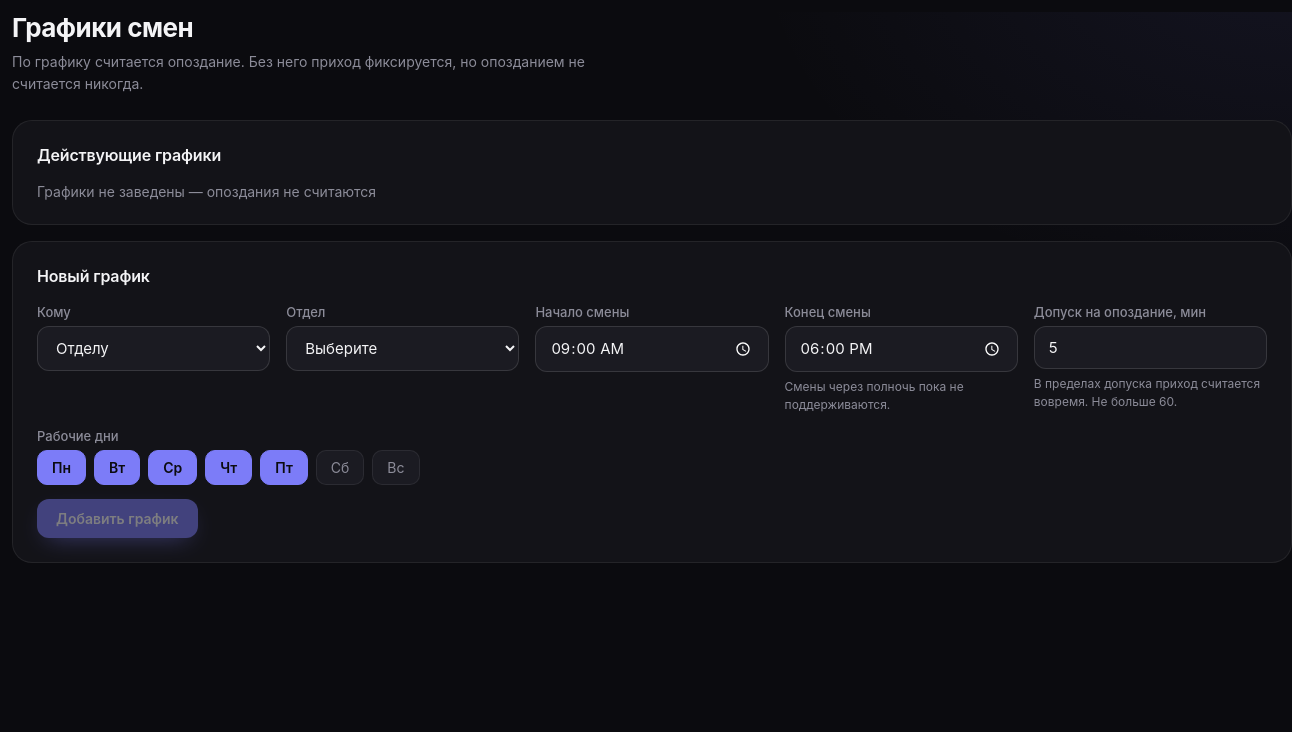
it: график: рабочие дни › график без единого дня создать нельзя
Expected: the heading "Новый график" is shown, [37,266,150,286]
Select "Продажи" in the dropdown labelled "Отдел" at (403, 348), box [286,326,519,371]
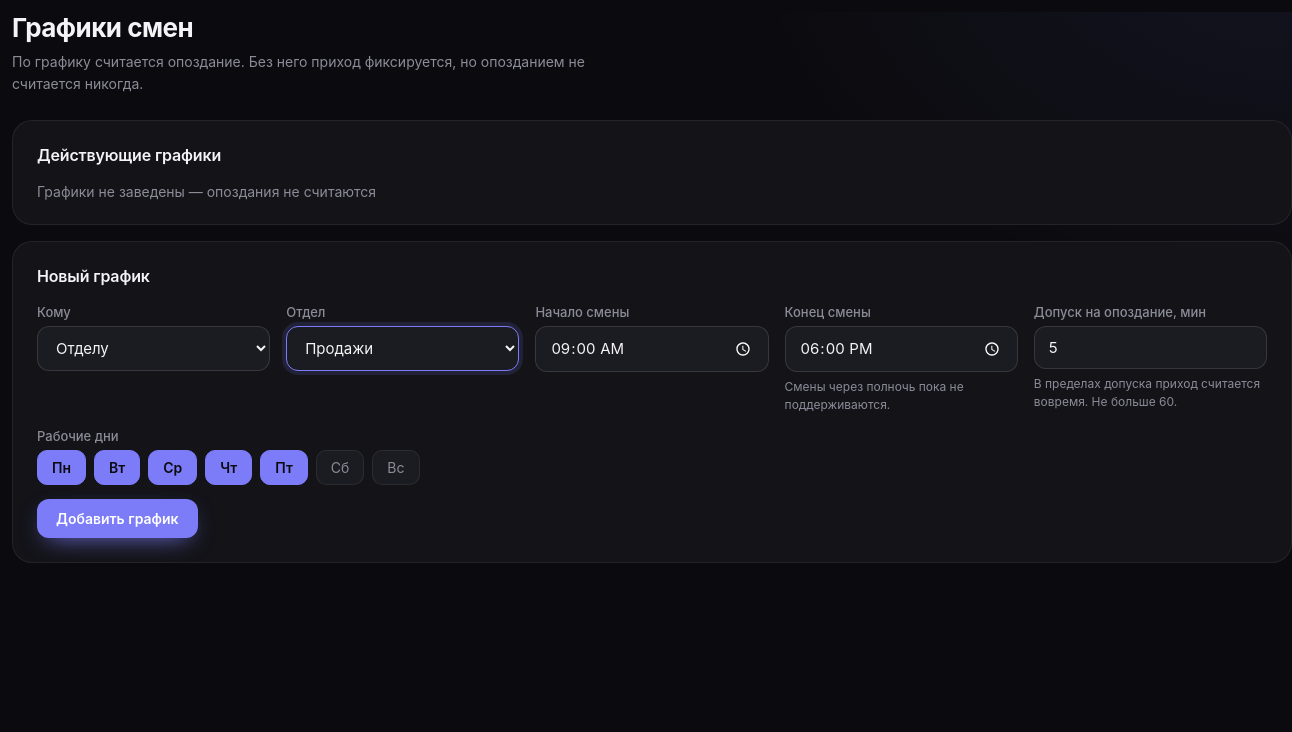
Click the button "Пн" at (62, 467), box [37,450,86,484]
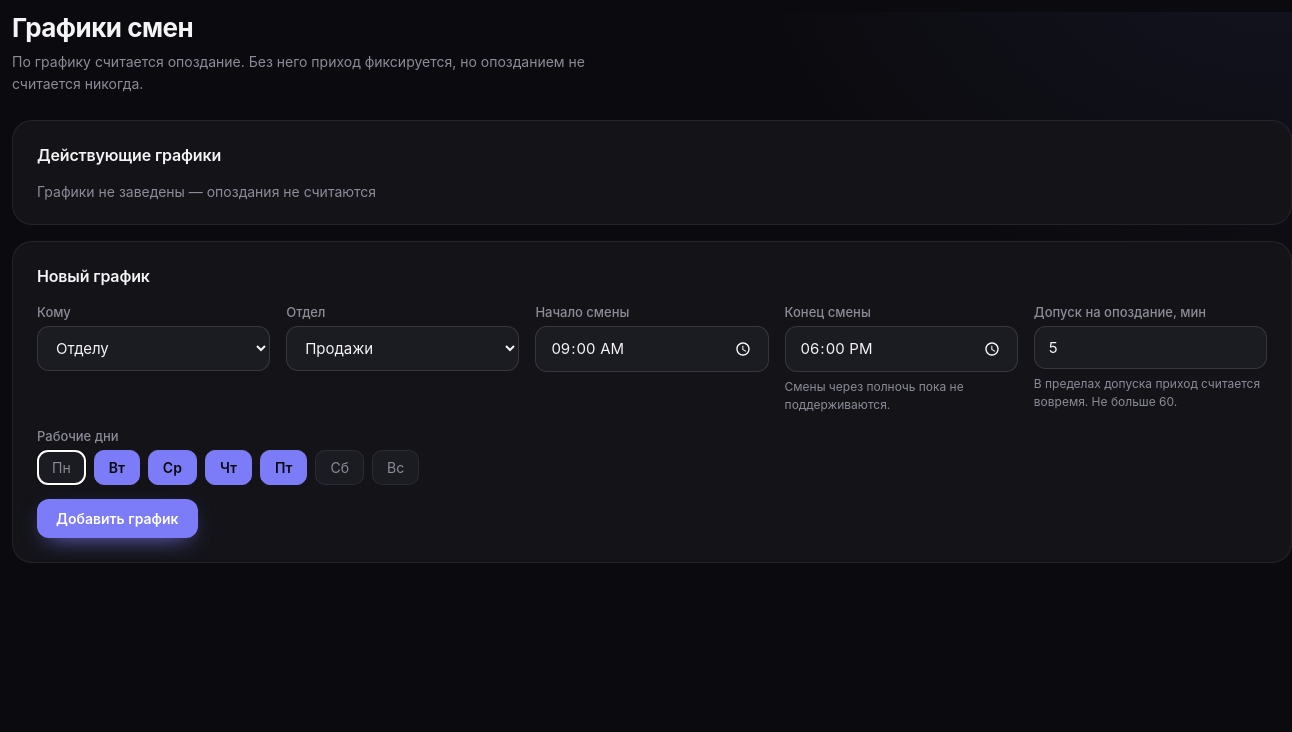
Click the button "Вт" at (117, 467), box [94,450,140,484]
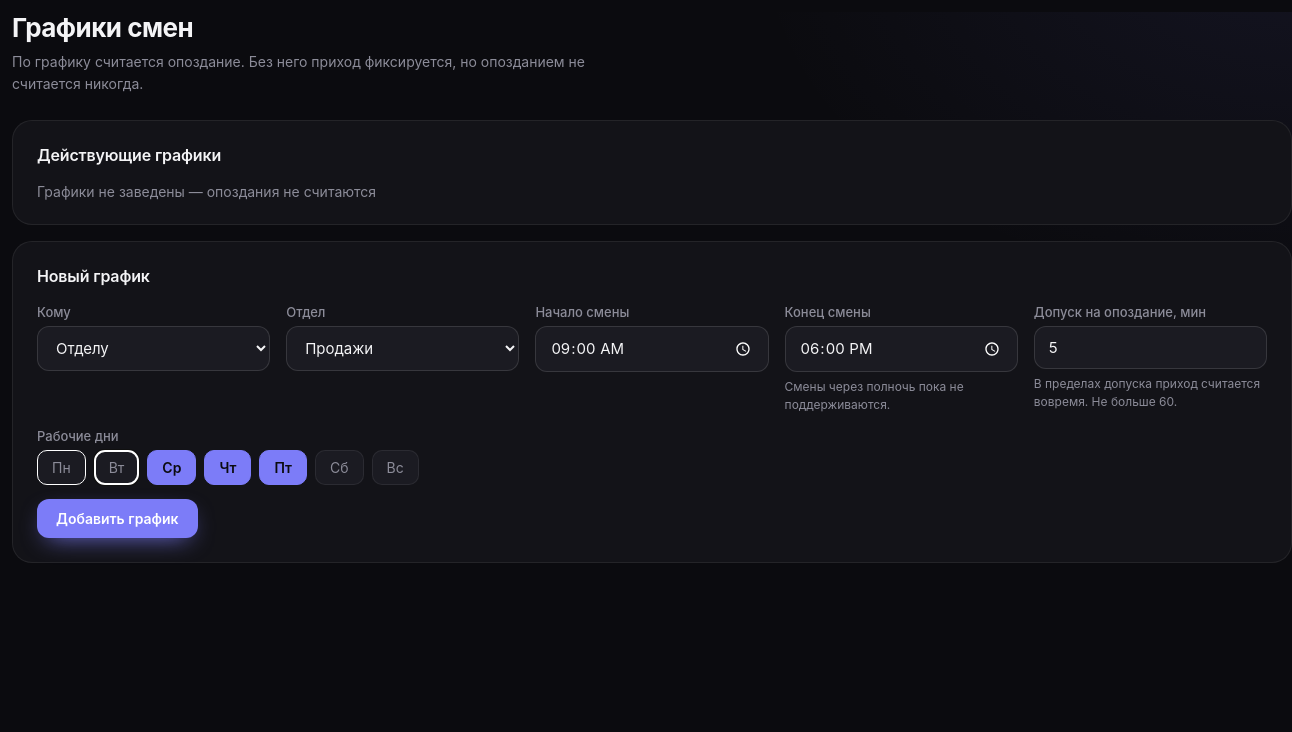
Click the button "Ср" at (172, 467), box [147,450,196,484]
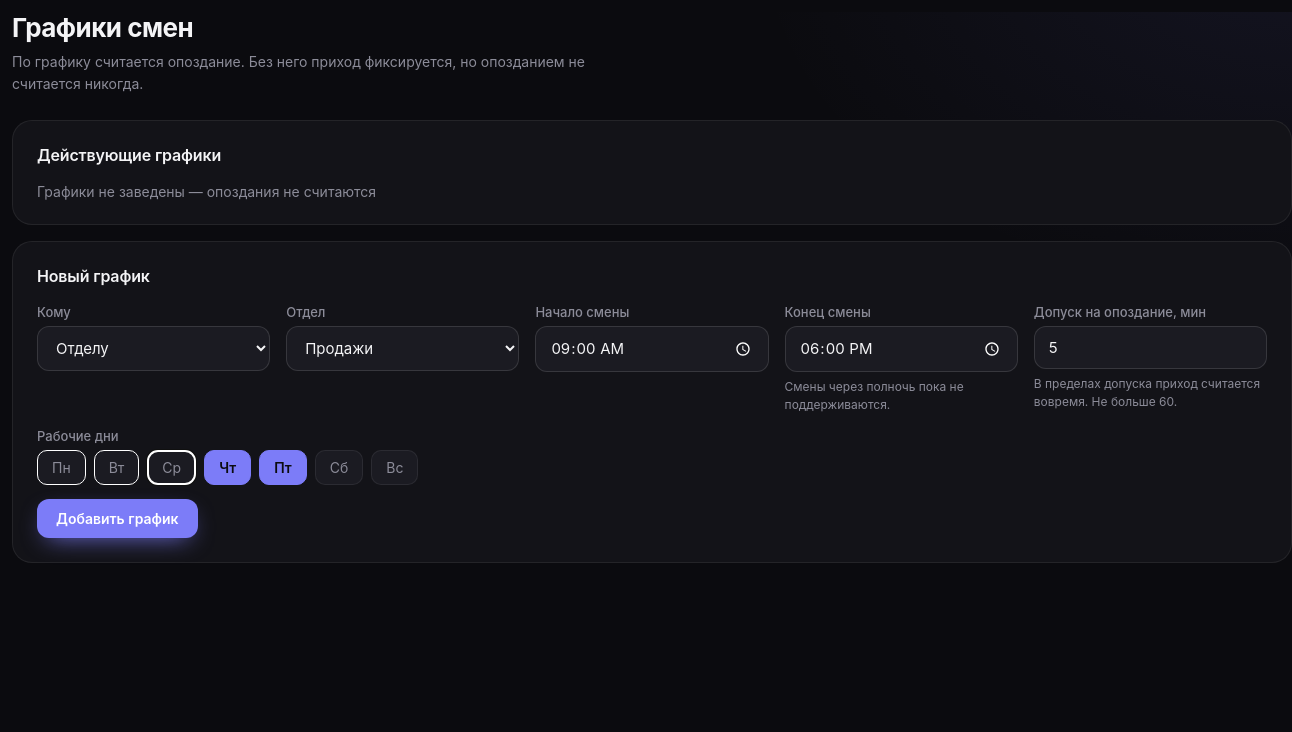
Click the button "Чт" at (228, 467), box [204,450,251,484]
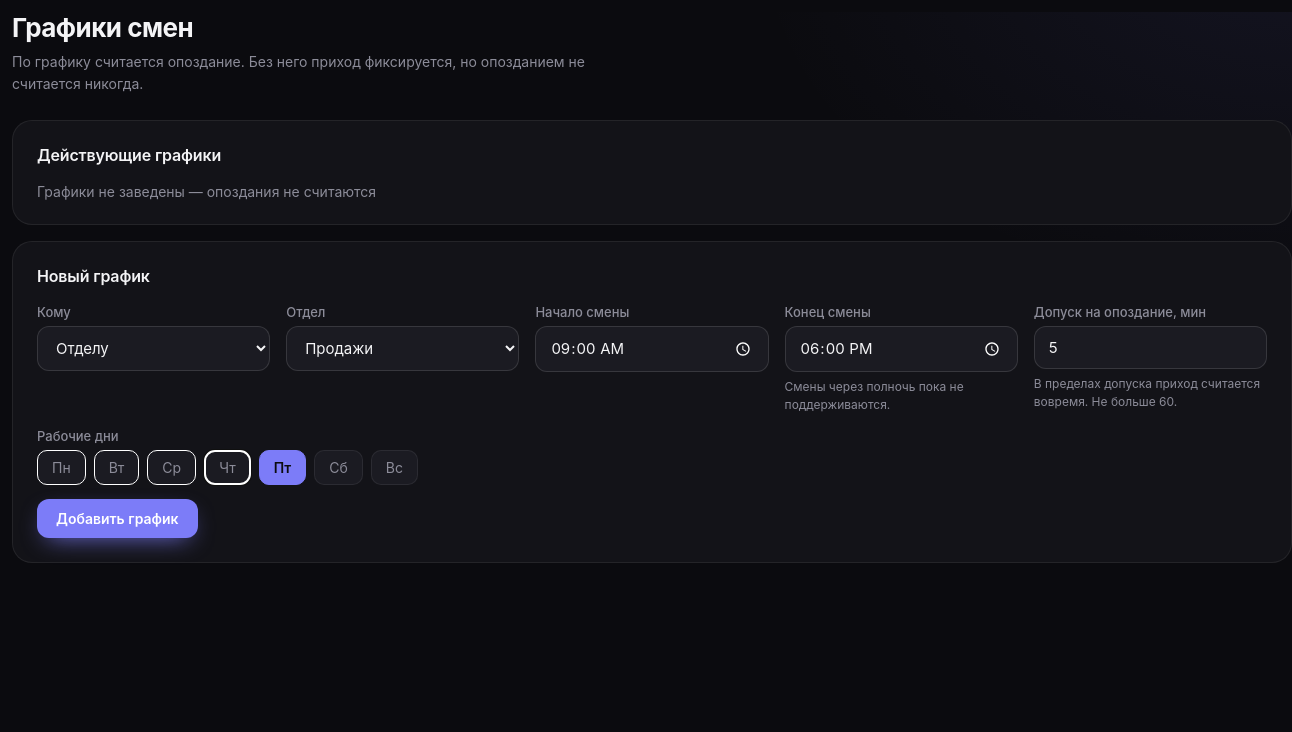
Click the button "Пт" at (282, 467), box [259,450,306,484]
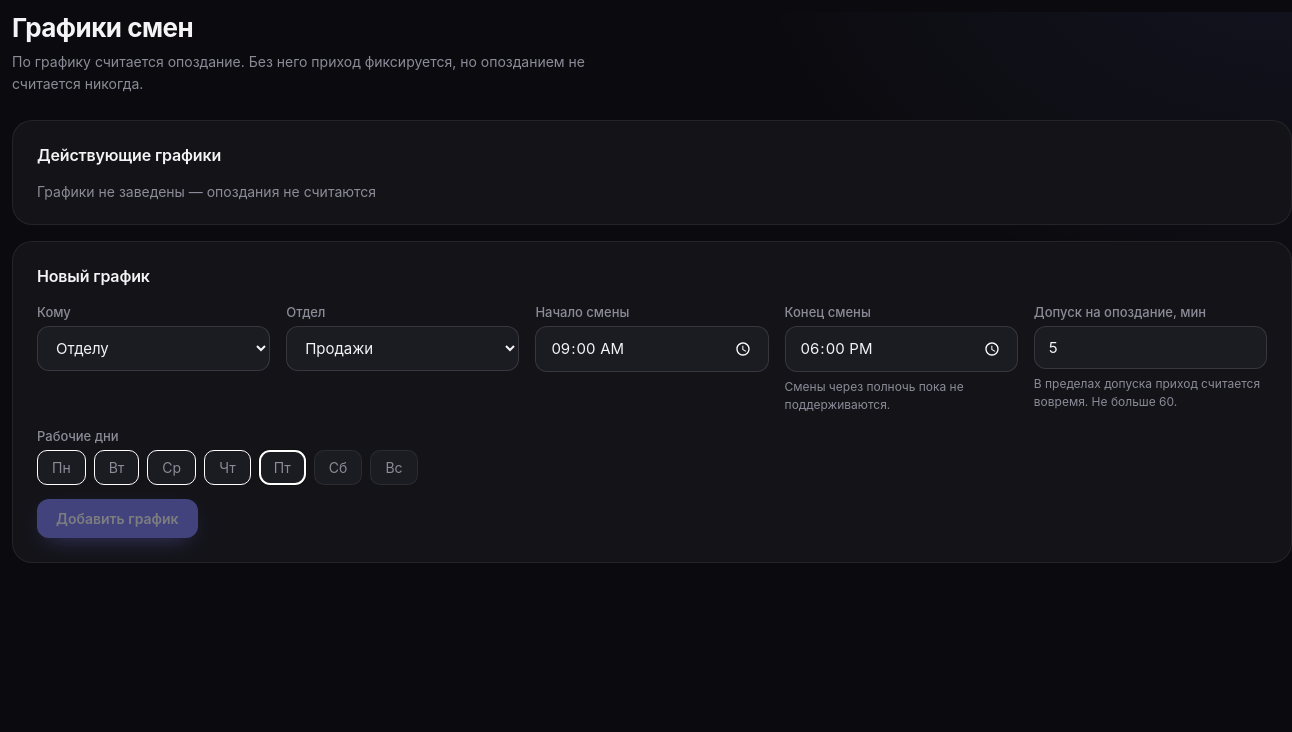
Expected: the button "Добавить график" is disabled, [37,498,198,538]
